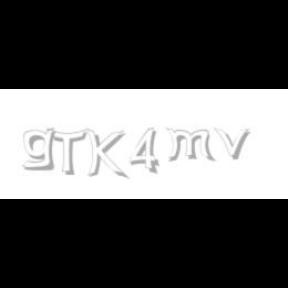4: (128, 128, 160, 174)
K: (85, 128, 125, 180)
T: (46, 128, 86, 176)
g: (22, 128, 60, 171)
m: (165, 128, 217, 162)
v: (214, 128, 254, 160)
